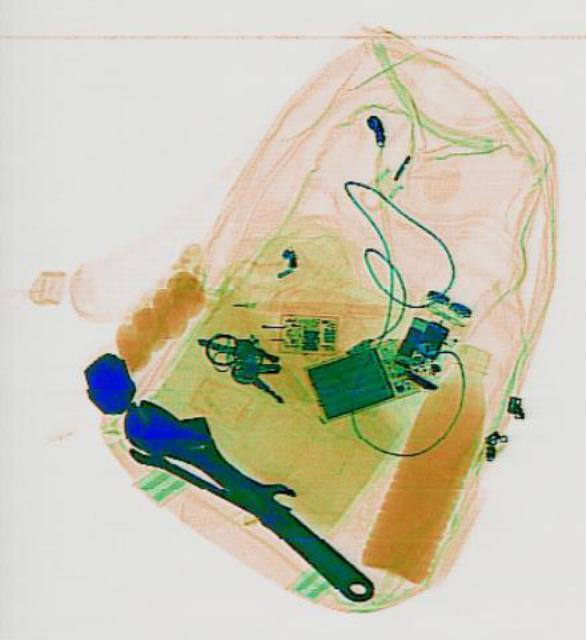Wrench: (110, 374, 391, 620)
